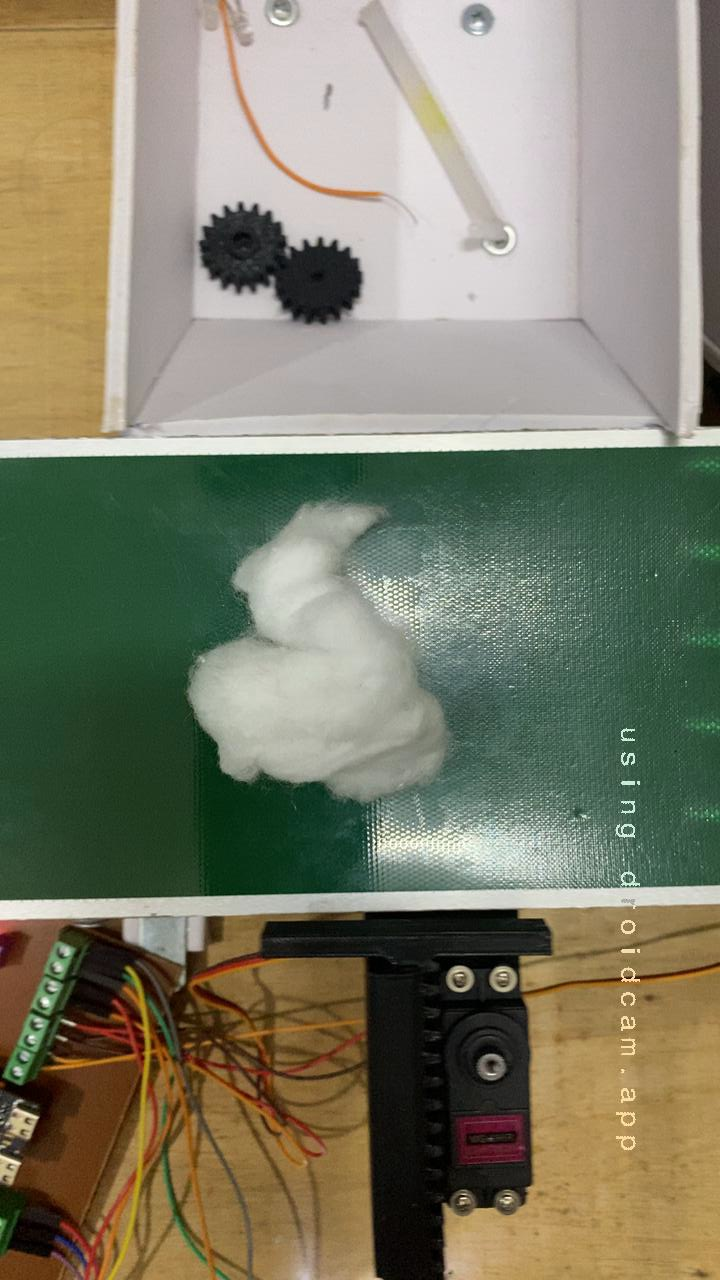cotton: (154, 469, 484, 821)
